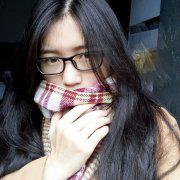WRONG: (37, 39, 113, 115)
